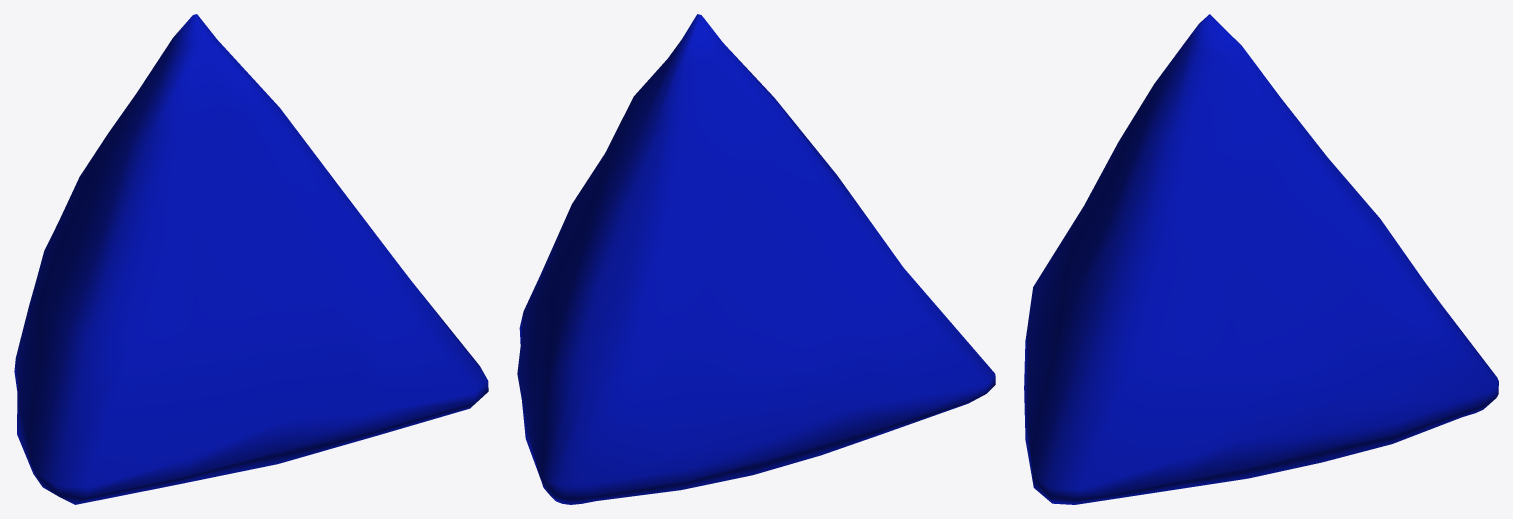
File: Small-Dorito.glb
3 views of the same model, side by side, from view 1: azimuth 30°, elevation 25°; view 2: azimuth 150°, elevation 25°; view 3: azimuth 270°, elevation 25° (orthographic).
Visible parts, largest first — view 1: Small-Dorito; view 2: Small-Dorito; view 3: Small-Dorito.
Boxes of the visible parts, bbox=[...] form: Small-Dorito: bbox=[14, 14, 488, 504]; Small-Dorito: bbox=[517, 14, 995, 504]; Small-Dorito: bbox=[1024, 14, 1498, 504].
Size of the model in its own units: 2.31 by 1.94 by 2.11.
